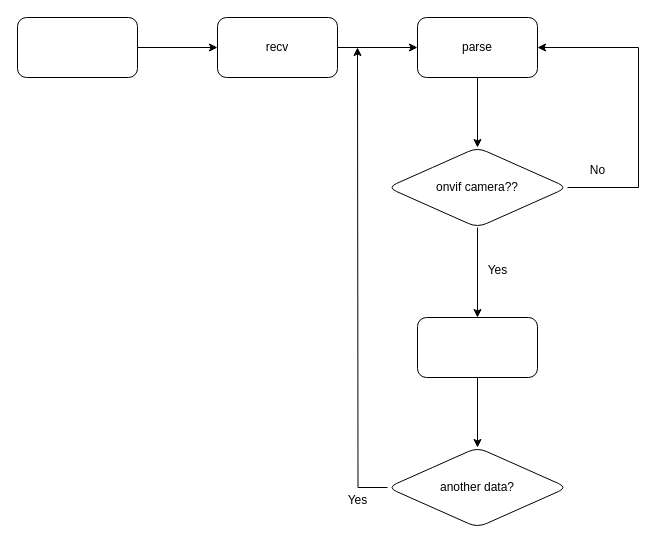
Some shapes in this 664 by 545 pixel diagram are drawn without their labels. The shapes that lost their labels are listed below. From the top down, each one's centre as x and y in pixels, then its label:
At pixel 77 47: "send onvif protocol".
At pixel 477 347: "Add detection list".
